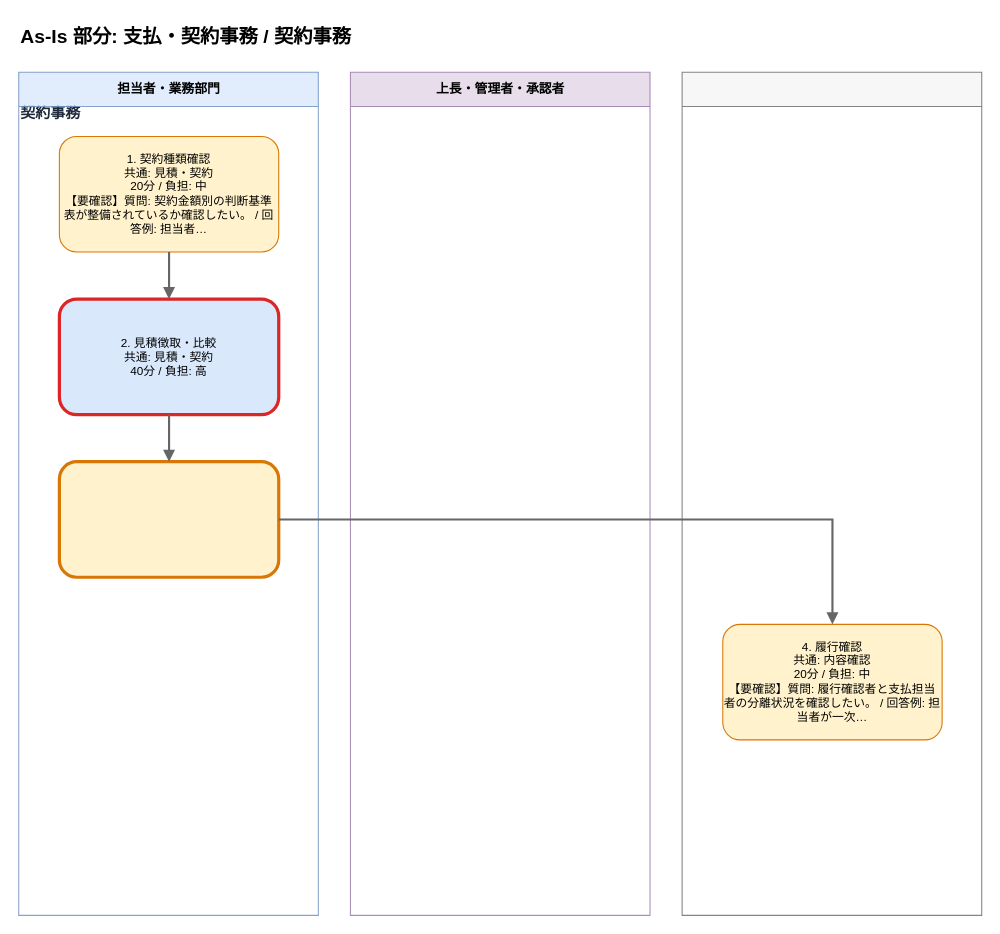
Image size: 1000x934. Some labels were removed from this diagram. The shapes that lost their labels are listed below. From the top down, each one's box as (x1, y1, x2, y2) in pixels, then its label:
(681, 71, 982, 915): システム
(57, 460, 280, 578): 3. 契約書作成 共通: 計算・作成 45分 / 負担: 高 【要確認】質問: 契約書レビューの担当者と外部専門家利用状況を確認したい。 / 回答例: 事…
